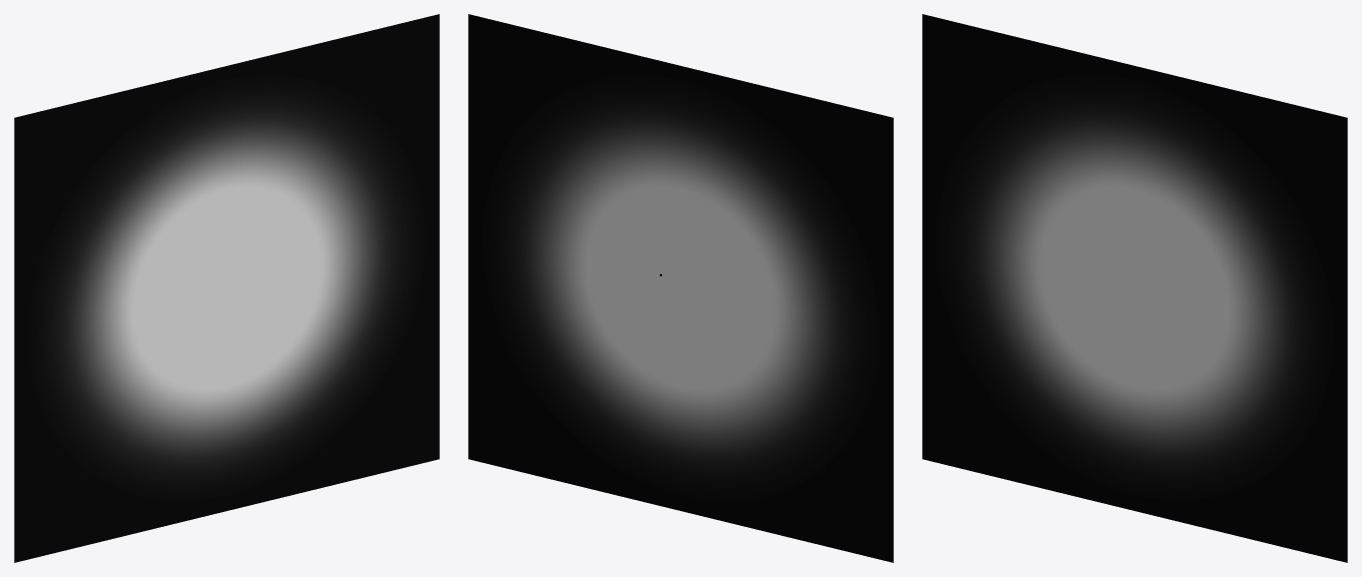
File: EPILOGUE_Level.glb
3 renders of one model, left to right at view 1: azimuth 30°, elevation 25°; view 2: azimuth 150°, elevation 25°; view 3: azimuth 330°, elevation 25°, orthographic.
Visible parts, largest first — view 1: glow (1); view 2: glow (1); view 3: glow (1).
Boxes of the visible parts, x1,y1,x2,y2 form: glow (1): (14,14,439,562); glow (1): (468,14,893,562); glow (1): (922,14,1347,562).
Size of the model in its own units: 3964 by 3964 by 334.
2 materials, 2 textured.
